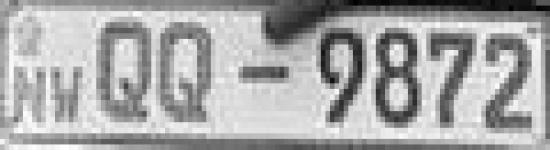-: (235, 58, 298, 92)
2: (480, 18, 538, 138)
7: (423, 17, 480, 136)
8: (369, 19, 422, 132)
9: (312, 21, 368, 129)
N: (10, 63, 50, 130)
Q: (90, 14, 156, 129), (156, 14, 218, 129)
W: (49, 59, 86, 128)
